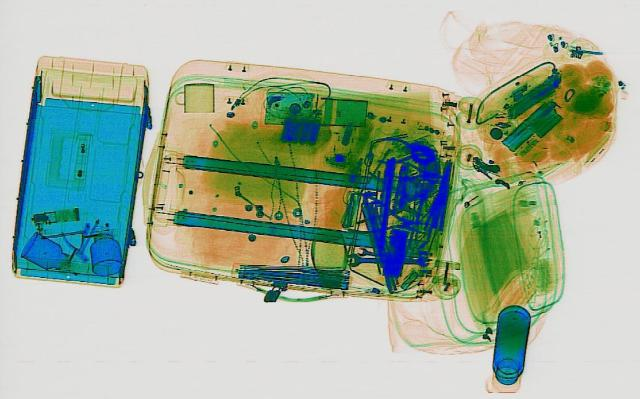Pliers: (332, 190, 440, 245), (372, 138, 436, 163)
Wrench: (354, 245, 422, 263), (346, 253, 428, 266)
